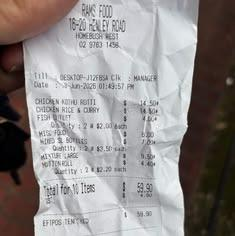receipt-in-hand: (24, 0, 197, 235)
